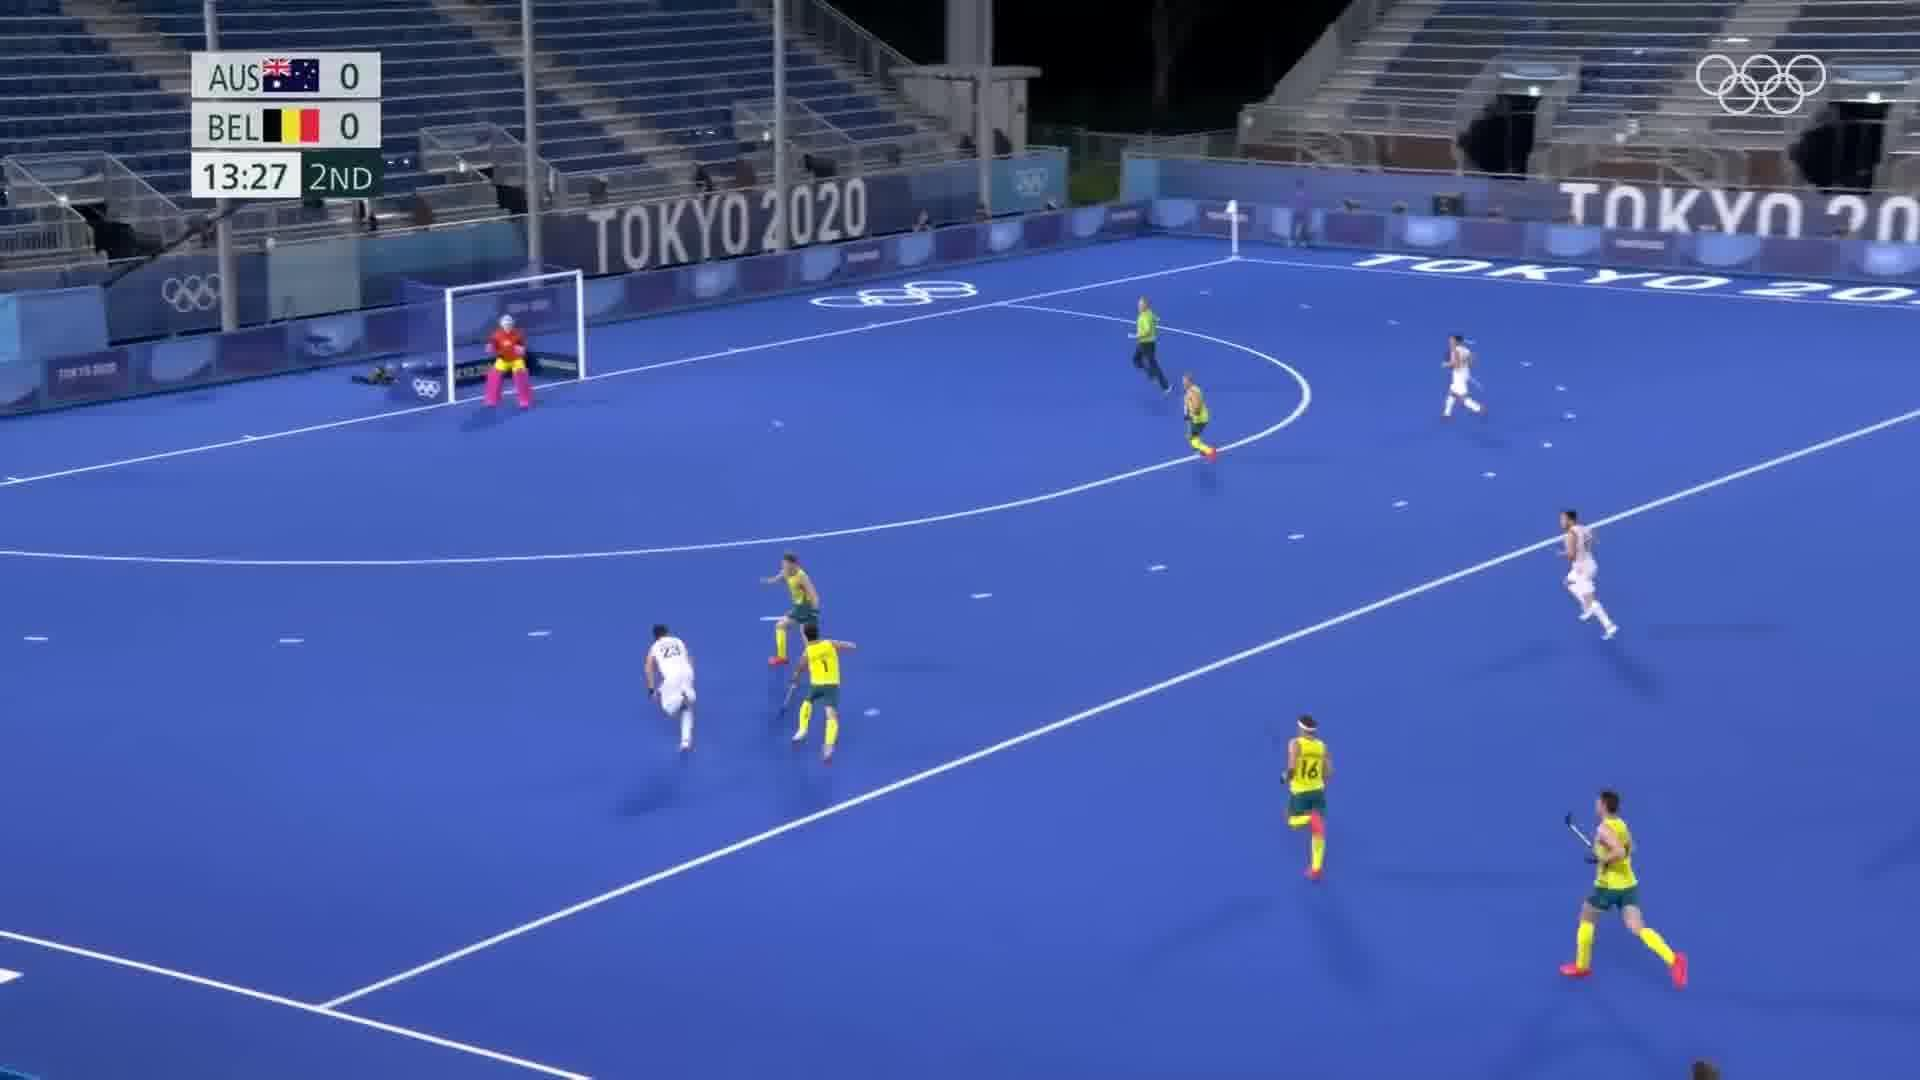ball: (860, 702, 887, 721)
